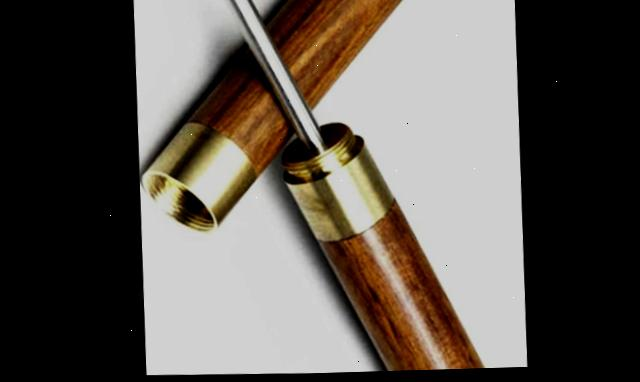ice pick: (161, 0, 529, 378), (130, 0, 454, 237)
